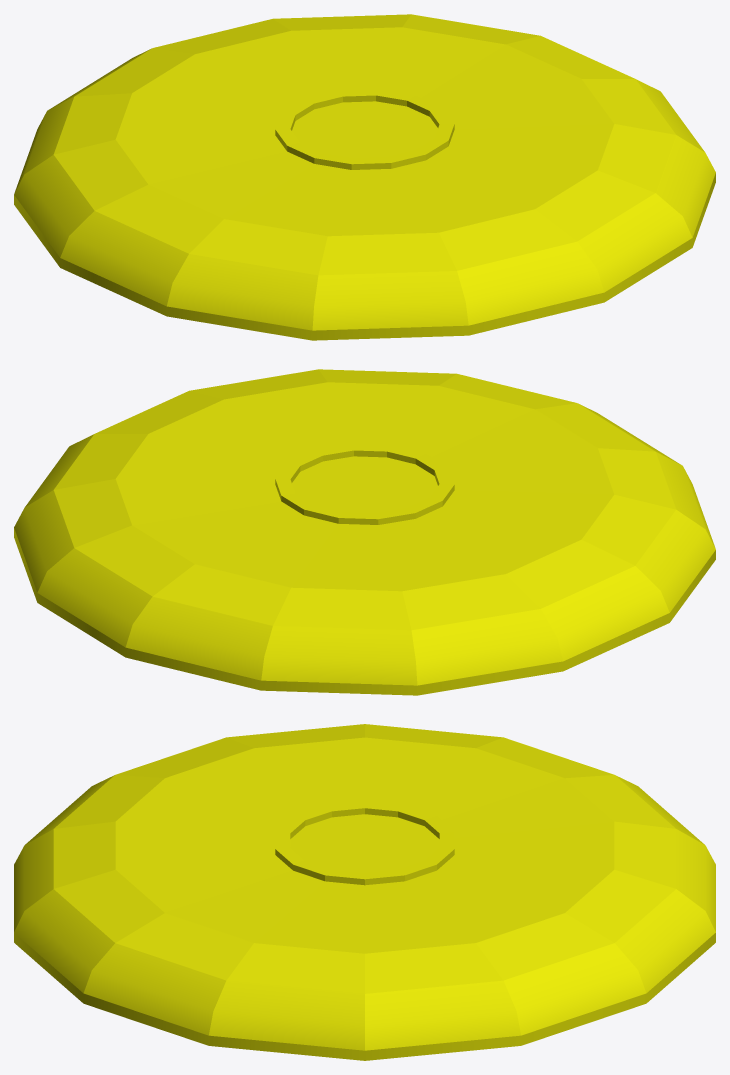
File: Frisby.fbx
The picture shows the model from 3 angles, top to bottom: view 1: azimuth 30°, elevation 25°; view 2: azimuth 150°, elevation 25°; view 3: azimuth 270°, elevation 25°; orthographic projection. The views are drawn at different scales.
Parts seen in each view (by area): view 1: pCylinder1; view 2: pCylinder1; view 3: pCylinder1.
Boxes of the visible parts, x1,y1,x2,y2 form: pCylinder1: (14, 14, 715, 340); pCylinder1: (14, 369, 715, 695); pCylinder1: (14, 724, 715, 1060).
Size of the model in its own units: 35.98 by 3.77 by 35.08.
